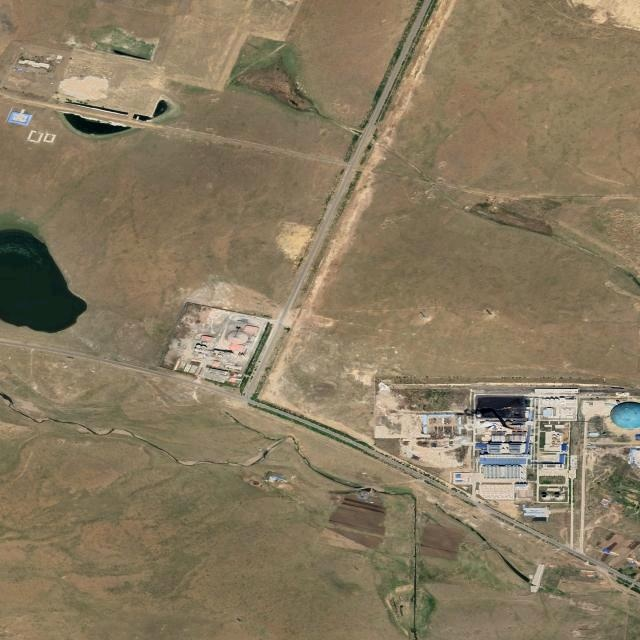coal_fired_power_plant: (470, 382, 577, 504)
